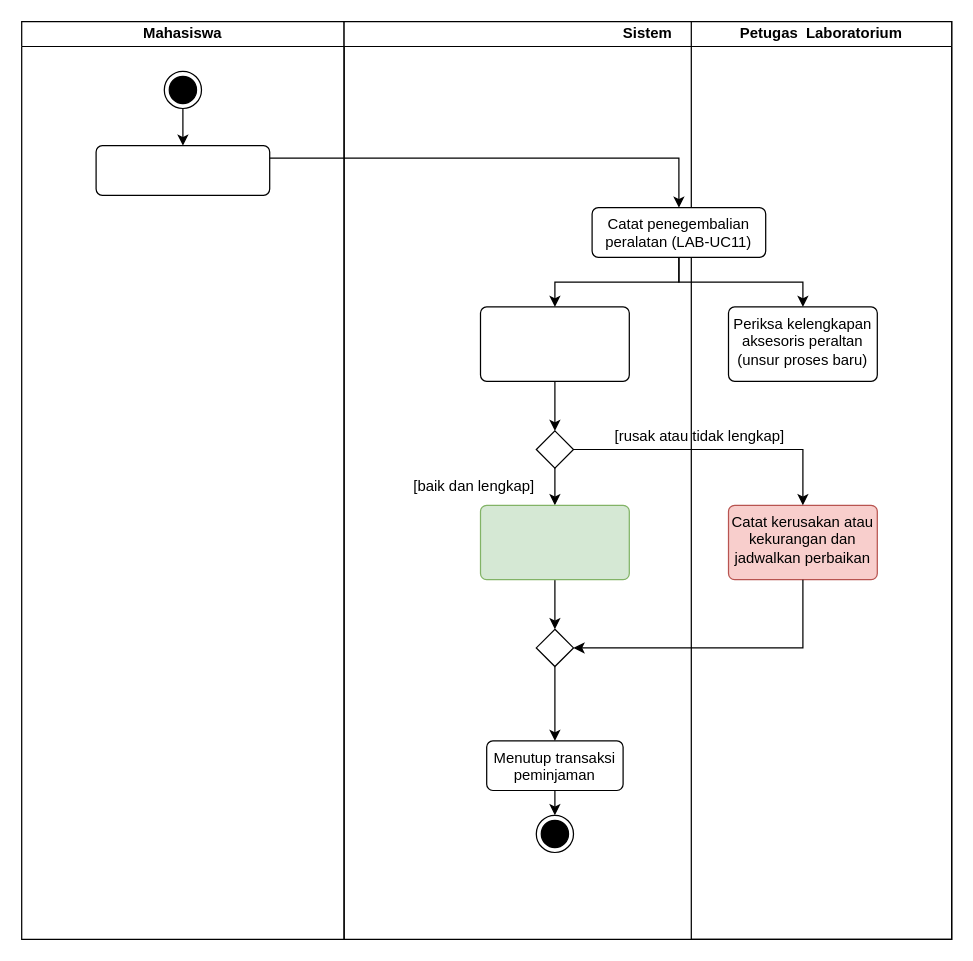
The diagram is 973 pixels wide and 961 high, and some of its shapes have lost their labels. Here are the shapes that lost their labels. From the top down, the centre of each, then its label:
(182,169): Menyerahkan peralatan yang dipinjam
(554,343): Periksa kondisi peraltan (dari LAB-UC12) kondisi fisik
(554,542): Perbarui status perlatan menjadi tersedia
